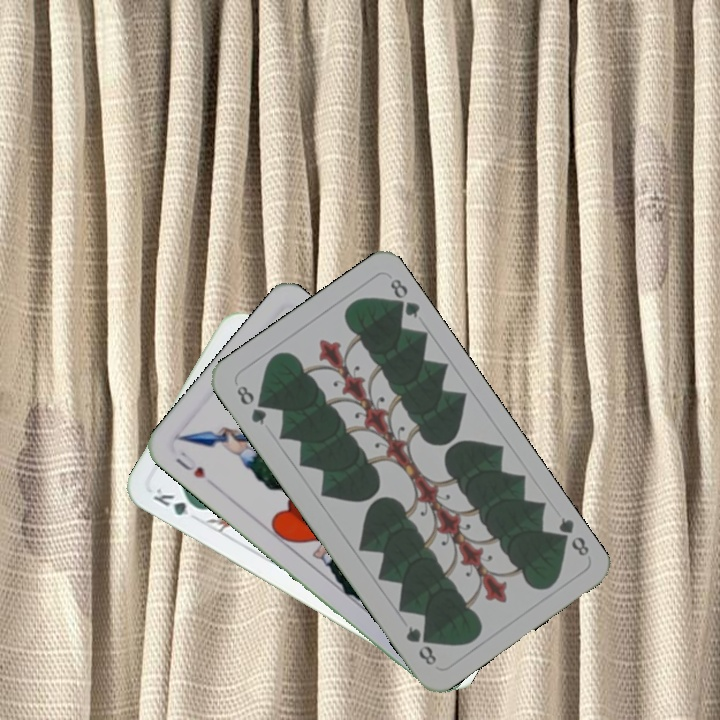G8: (550, 513, 592, 559), (232, 381, 270, 428)
GK: (149, 483, 205, 518)
HU: (171, 447, 208, 481)
